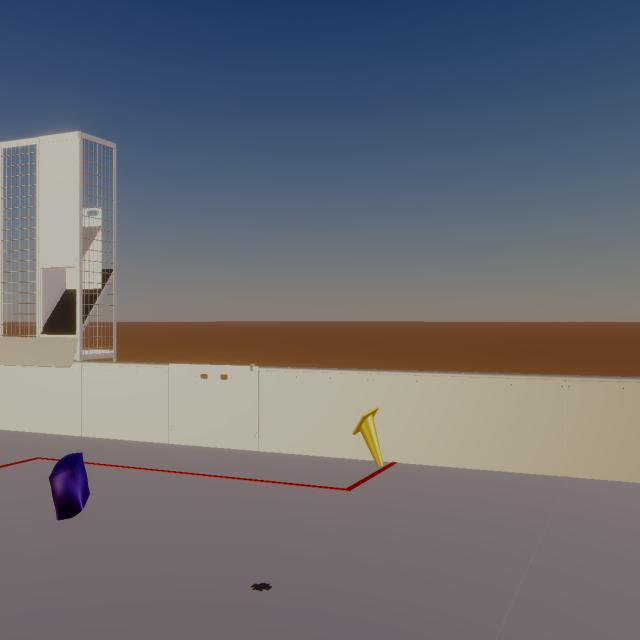frc_cone: (352, 406, 384, 466)
frc_cube: (49, 452, 90, 520)
